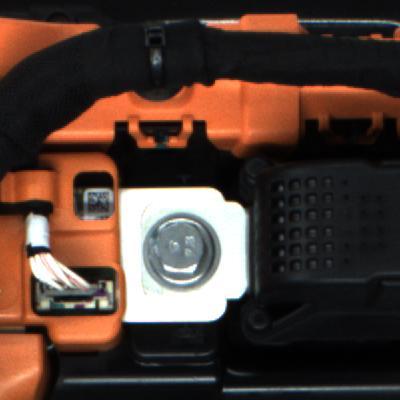nut_b: (139, 213, 225, 296)
